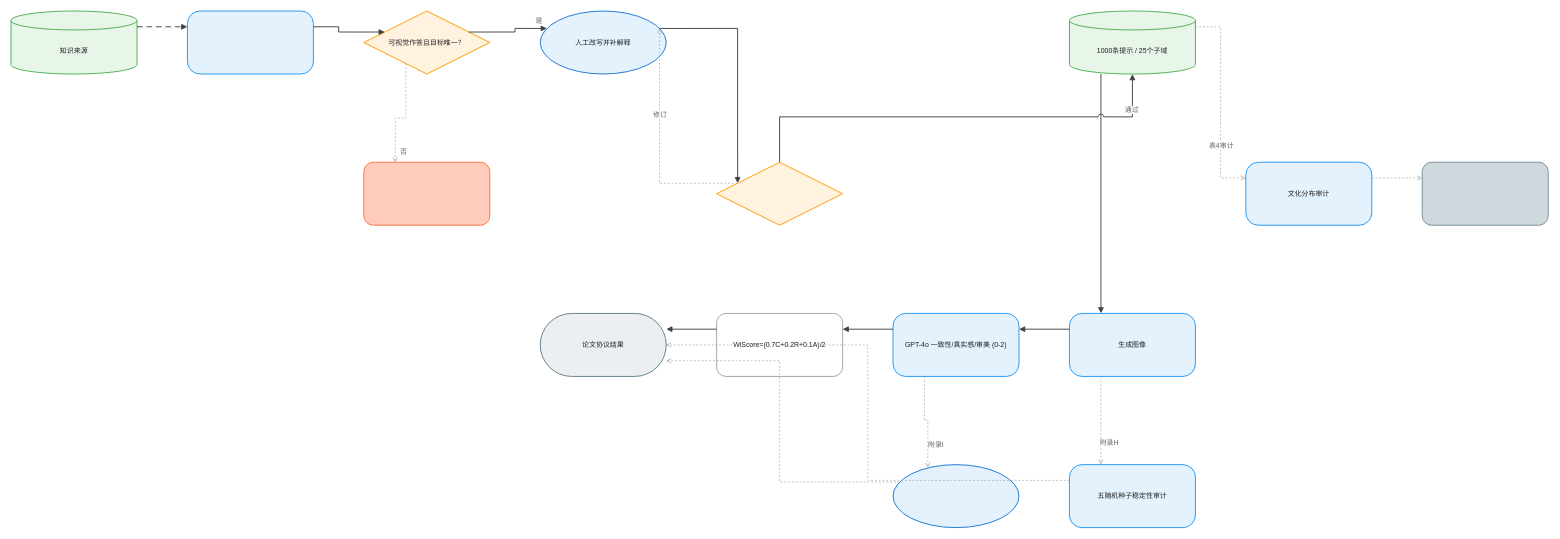
This 1560x539 diagram has some shape labels left out. The centre of each missing label's shape, as x and y in pixels:
"候选提示" goes at point (250, 42).
"描述性分布报告 · 无门槛/再平衡" goes at point (1484, 193).
"提示质检通过？" goes at point (779, 193).
"每图五人核验" goes at point (955, 496).
"淘汰候选" goes at point (426, 193).
